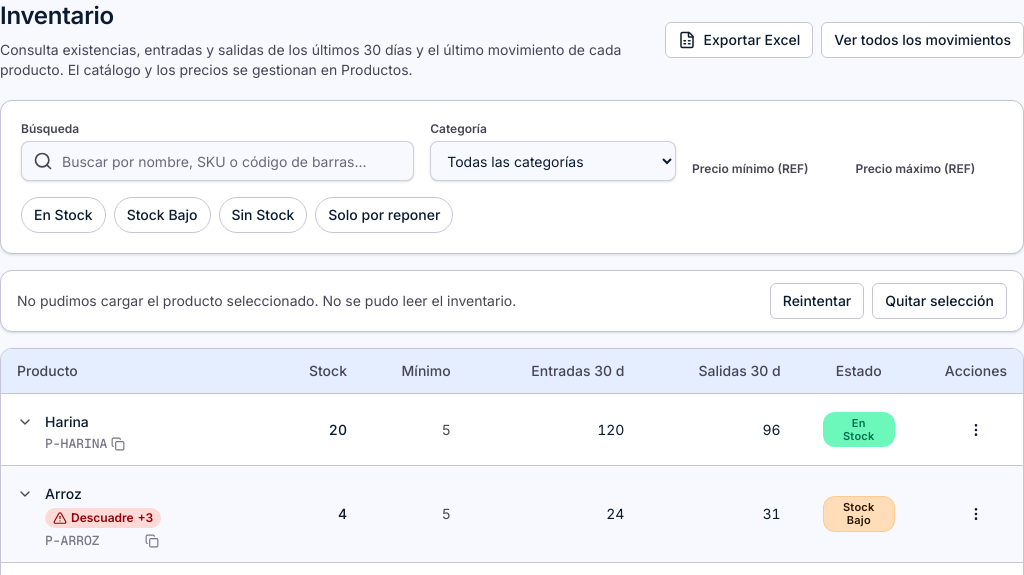
Test: InventoryListPage · vista única de stock › movimientos en línea › offers to retry when the selected product could not be read
expect the text "No pudimos cargar el producto seleccionado. No se pudo leer el inventario." is shown: met, box top-left (17, 291), bottom-right (516, 311)
expect the row titled "Harina" is shown: met, box top-left (1, 394), bottom-right (1023, 466)
Step 1. Click the button "Reintentar" → (817, 301), box top-left (770, 283), bottom-right (864, 319)
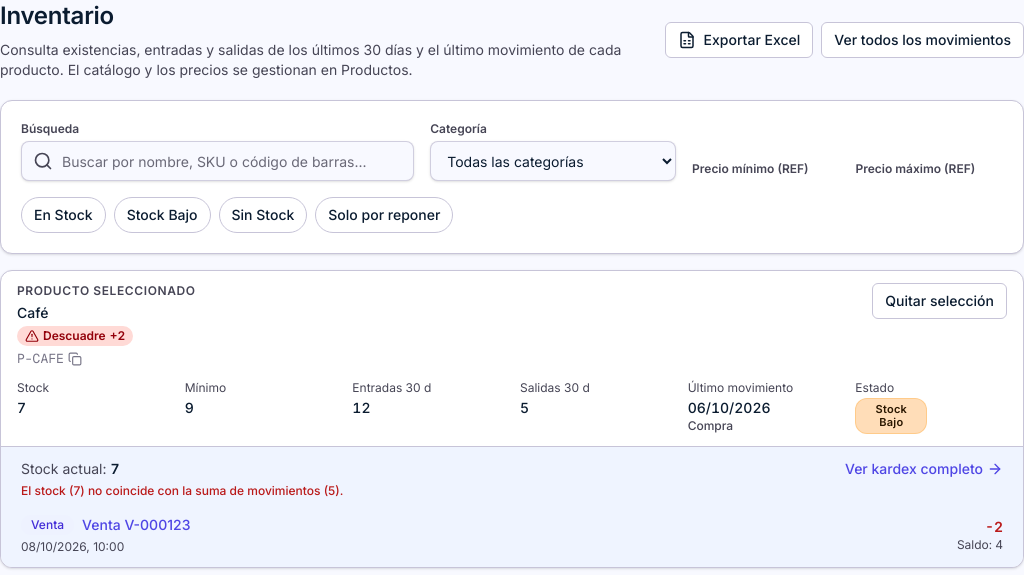
expect the text titled "Café" is shown: met, box top-left (17, 303), bottom-right (48, 322)
